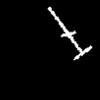double_crochet: (48, 7, 91, 59)
